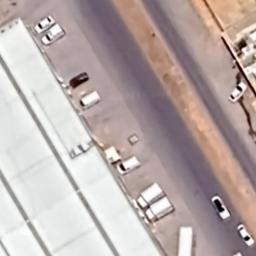pickup: (40, 23, 66, 47)
sedan: (236, 222, 256, 249), (228, 79, 248, 106), (33, 15, 57, 34)
truck: (140, 196, 177, 226), (134, 182, 166, 212)
van: (114, 154, 142, 178), (212, 193, 232, 225), (76, 90, 102, 114), (69, 70, 90, 90)
